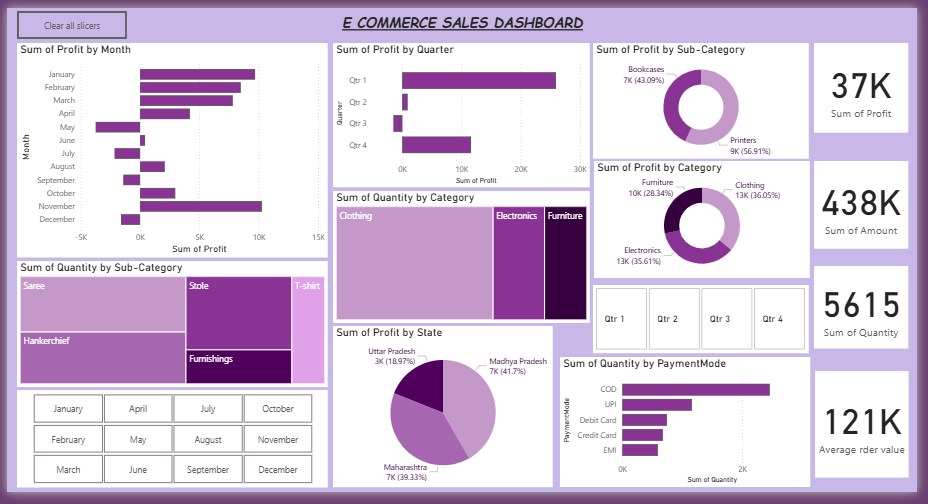

What the dashboard file says about the page in this screenshot:
{"tool":"powerbi","page":{"name":"Page 1","canvas":[1400,744],"ordinal":0},"visuals":[{"type":"textbox","box":[1.5,1.5,1398.5,41.5],"z":0},{"type":"barChart","fields":{"Y":["Sum(Details.Profit)"],"Category":["Orders.Order Date.Variation.Date Hierarchy.Month"]},"box":[15,53.3,478.3,330],"z":1000},{"type":"barChart","fields":{"Category":["Orders.Order Date.Variation.Date Hierarchy.Quarter"],"Y":["Sum(Details.Profit)"]},"box":[501.7,53.3,395,221.7],"z":2000},{"type":"donutChart","fields":{"Category":["Details.Category"],"Y":["Sum(Details.Profit)"]},"box":[903.1,235.4,332.3,180],"z":3000},{"type":"treemap","fields":{"Group":["Details.Category"],"Values":["Sum(Details.Quantity)"]},"box":[501.5,281.5,395.4,203.1],"z":4000},{"type":"treemap","fields":{"Group":["Details.Sub-Category"],"Values":["Sum(Details.Quantity)"]},"box":[15.4,389.2,478.5,193.8],"z":5000},{"type":"barChart","fields":{"Y":["Sum(Details.Quantity)"],"Category":["Details.PaymentMode"]},"box":[850.8,536.9,384.6,200],"z":6000},{"type":"card","fields":{"Values":["Sum(Details.Profit)"]},"box":[1241.7,53.3,145,138.3],"z":7000},{"type":"card","fields":{"Values":["Sum(Details.Amount)"]},"box":[1241.7,235,145,135],"z":8000},{"type":"card","fields":{"Values":["Sum(Details.Quantity)"]},"box":[1241.7,396.7,145,126.7],"z":9000},{"type":"card","fields":{"Values":["Sum(Details.AOV)"]},"box":[1242.4,558.3,144.3,164.3],"z":10000},{"type":"donutChart","fields":{"Y":["Sum(Details.Profit)"],"Category":["Details.Sub-Category"]},"box":[901.5,53.8,332.3,178.5],"z":11000},{"type":"actionButton","box":[15.4,4.6,169.2,43.1],"z":12000},{"type":"slicer","fields":{"Values":["Orders.Order Date.Variation.Date Hierarchy.Month"]},"box":[15,587,478,150],"z":12001},{"type":"pieChart","fields":{"Category":["Orders.State"],"Y":["Sum(Details.Profit)"]},"box":[501.5,489.2,338.5,247.7],"z":12002},{"type":"advancedSlicerVisual","fields":{"Values":["Orders.Order Date.Variation.Date Hierarchy.Quarter"]},"box":[901.5,426.2,332.3,104.6],"z":12003}]}

Visuals, with their boxes in screenshot pixels (x1, y1, x2, y2), scaled from the page's 1400x744 canvas onto the 928x504 screenshot:
textbox: 1 1 927 29
barChart - Sum(Details.Profit) x Orders.Order Date.Variation.Date Hierarchy.Month: 10 36 327 260
barChart - Orders.Order Date.Variation.Date Hierarchy.Quarter x Sum(Details.Profit): 333 36 594 186
donutChart - Details.Category x Sum(Details.Profit): 599 159 819 281
treemap - Details.Category x Sum(Details.Quantity): 332 191 595 328
treemap - Details.Sub-Category x Sum(Details.Quantity): 10 264 327 395
barChart - Sum(Details.Quantity) x Details.PaymentMode: 564 364 819 499
card - Sum(Details.Profit): 823 36 919 130
card - Sum(Details.Amount): 823 159 919 251
card - Sum(Details.Quantity): 823 269 919 355
card - Sum(Details.AOV): 824 378 919 490
donutChart - Sum(Details.Profit) x Details.Sub-Category: 598 36 818 157
actionButton: 10 3 122 32
slicer - Orders.Order Date.Variation.Date Hierarchy.Month: 10 398 327 499
pieChart - Orders.State x Sum(Details.Profit): 332 331 557 499
advancedSlicerVisual - Orders.Order Date.Variation.Date Hierarchy.Quarter: 598 289 818 360
